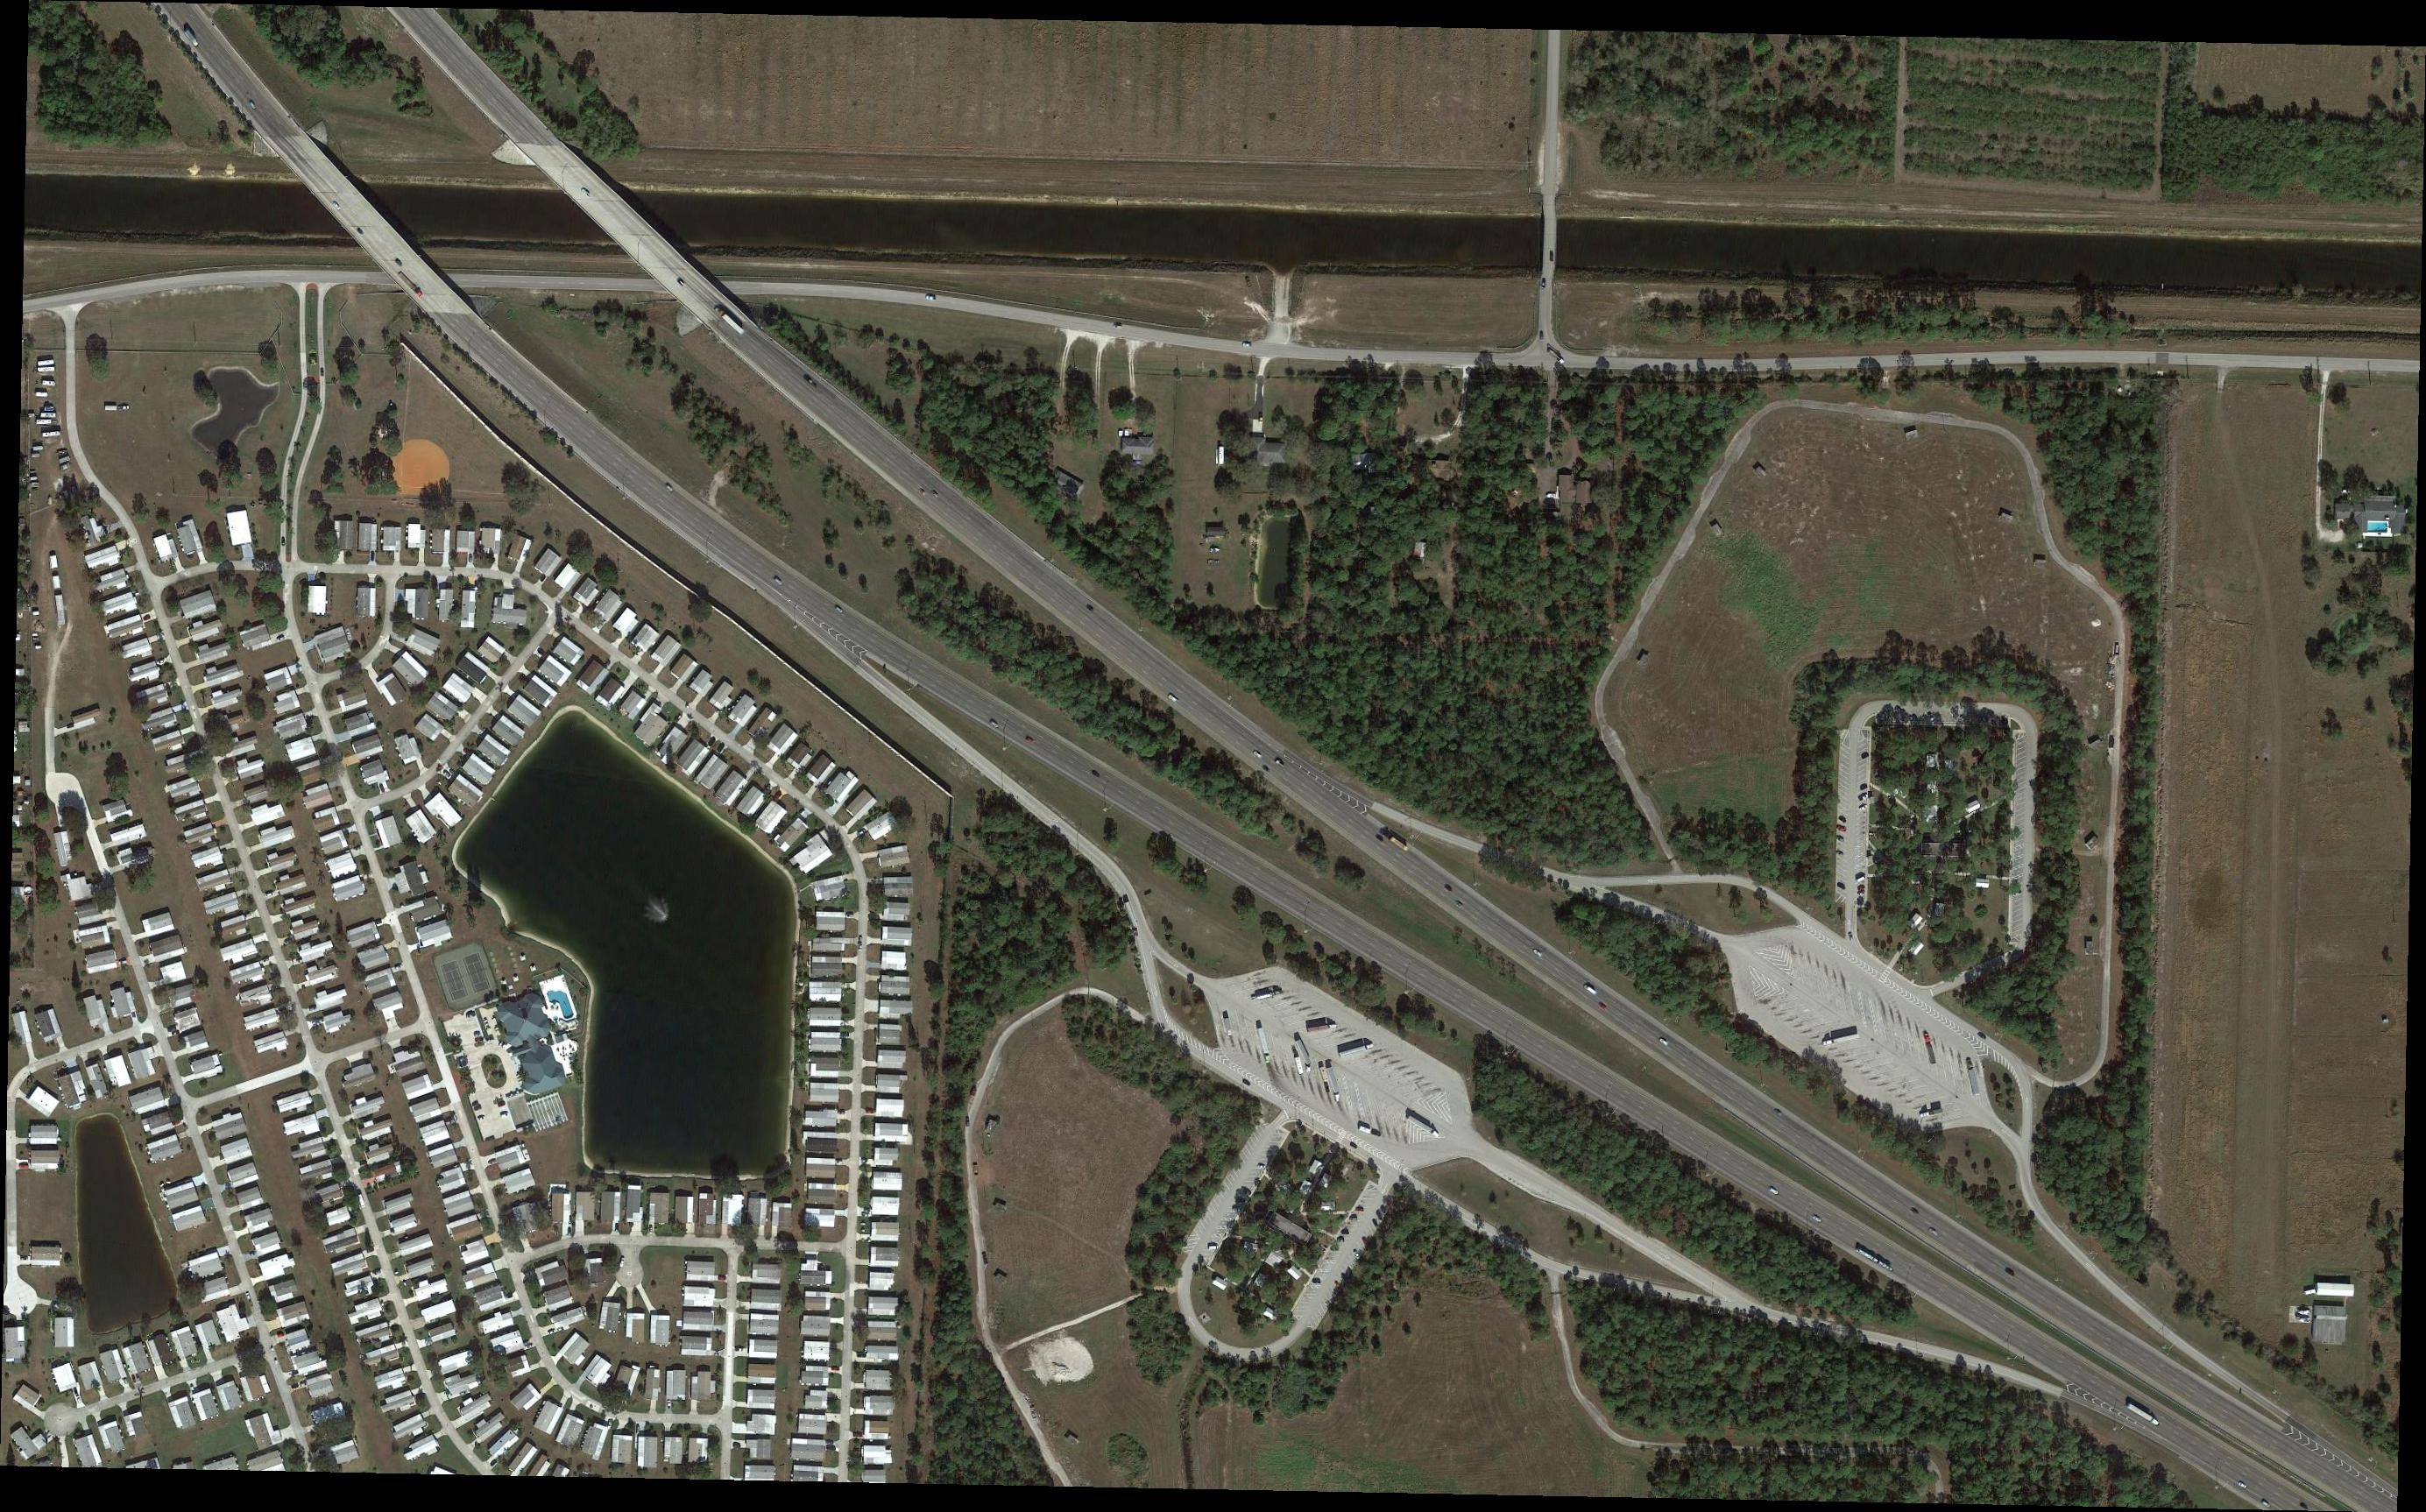ship: (2299, 1310, 2311, 1317), (2297, 1319, 2313, 1324), (1210, 547, 1221, 554)
